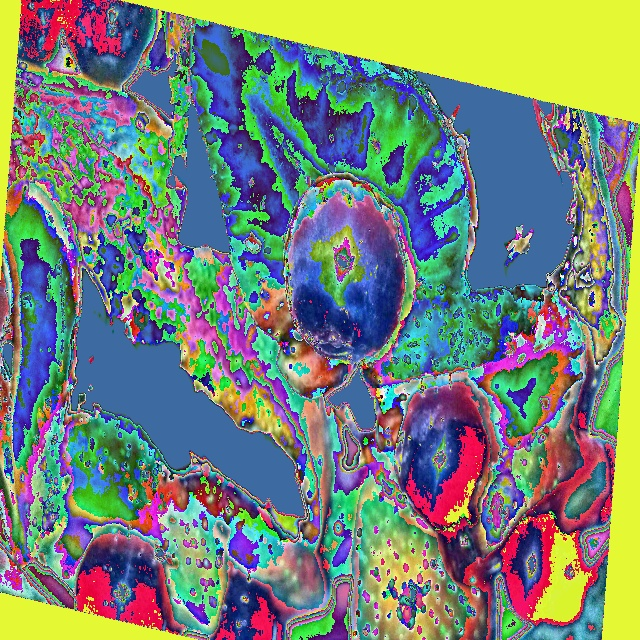background: (0, 0, 626, 640)
